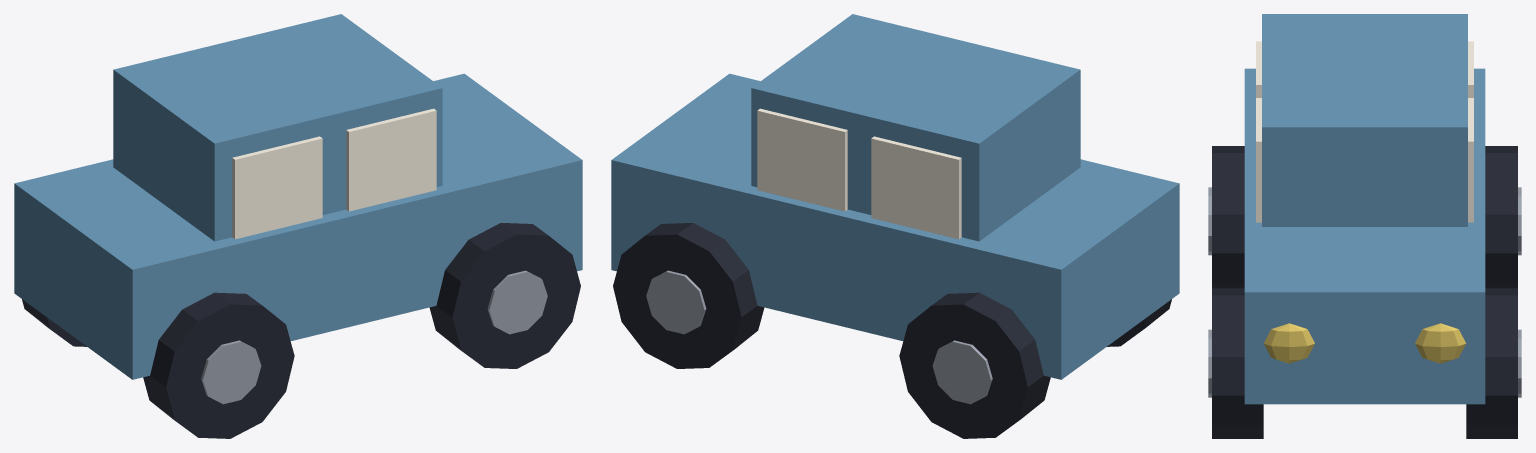
The model's file is car.obj.
3 views of the same model, side by side, from view 1: azimuth 30°, elevation 25°; view 2: azimuth 150°, elevation 25°; view 3: azimuth 270°, elevation 25° (orthographic).
Parts seen in each view (by area): view 1: stage_1_part_0, stage_2_part_1, stage_3_part_4, stage_3_part_8, stage_5_part_13, stage_5_part_11, stage_4_part_9, stage_4_part_5, stage_3_part_2; view 2: stage_1_part_0, stage_2_part_1, stage_3_part_2, stage_3_part_6, stage_5_part_12, stage_5_part_10, stage_4_part_7, stage_4_part_3, stage_3_part_4; view 3: stage_1_part_0, stage_2_part_1, stage_3_part_6, stage_3_part_8, stage_3_part_2, stage_3_part_4, stage_5_part_14, stage_5_part_15, stage_5_part_12, stage_5_part_13, stage_5_part_10, stage_5_part_11.
Boxes of the visible parts, x1=… form: stage_1_part_0: x1=14, y1=73, x2=582, y2=379; stage_2_part_1: x1=113, y1=14, x2=442, y2=241; stage_3_part_4: x1=143, y1=292, x2=294, y2=438; stage_3_part_8: x1=429, y1=223, x2=580, y2=368; stage_5_part_13: x1=346, y1=108, x2=436, y2=211; stage_5_part_11: x1=232, y1=136, x2=322, y2=239; stage_4_part_9: x1=487, y1=270, x2=547, y2=334; stage_4_part_5: x1=201, y1=340, x2=261, y2=404; stage_3_part_2: x1=22, y1=299, x2=86, y2=346; stage_1_part_0: x1=611, y1=73, x2=1179, y2=379; stage_2_part_1: x1=751, y1=14, x2=1080, y2=241; stage_3_part_2: x1=899, y1=292, x2=1050, y2=438; stage_3_part_6: x1=613, y1=223, x2=764, y2=368; stage_5_part_12: x1=757, y1=108, x2=847, y2=211; stage_5_part_10: x1=871, y1=136, x2=961, y2=239; stage_4_part_7: x1=646, y1=270, x2=706, y2=334; stage_4_part_3: x1=932, y1=340, x2=992, y2=404; stage_3_part_4: x1=1107, y1=299, x2=1171, y2=346; stage_1_part_0: x1=1244, y1=68, x2=1485, y2=404; stage_2_part_1: x1=1262, y1=14, x2=1467, y2=226; stage_3_part_6: x1=1466, y1=288, x2=1517, y2=438; stage_3_part_8: x1=1212, y1=288, x2=1263, y2=438; stage_3_part_2: x1=1485, y1=146, x2=1517, y2=288; stage_3_part_4: x1=1212, y1=146, x2=1244, y2=288; stage_5_part_14: x1=1415, y1=323, x2=1466, y2=363; stage_5_part_15: x1=1263, y1=323, x2=1314, y2=363; stage_5_part_12: x1=1468, y1=98, x2=1473, y2=222; stage_5_part_13: x1=1256, y1=98, x2=1261, y2=222; stage_5_part_10: x1=1468, y1=41, x2=1473, y2=97; stage_5_part_11: x1=1256, y1=41, x2=1261, y2=97.
Bounding box in the file's own units: 1.57 × 0.9 × 0.912.
